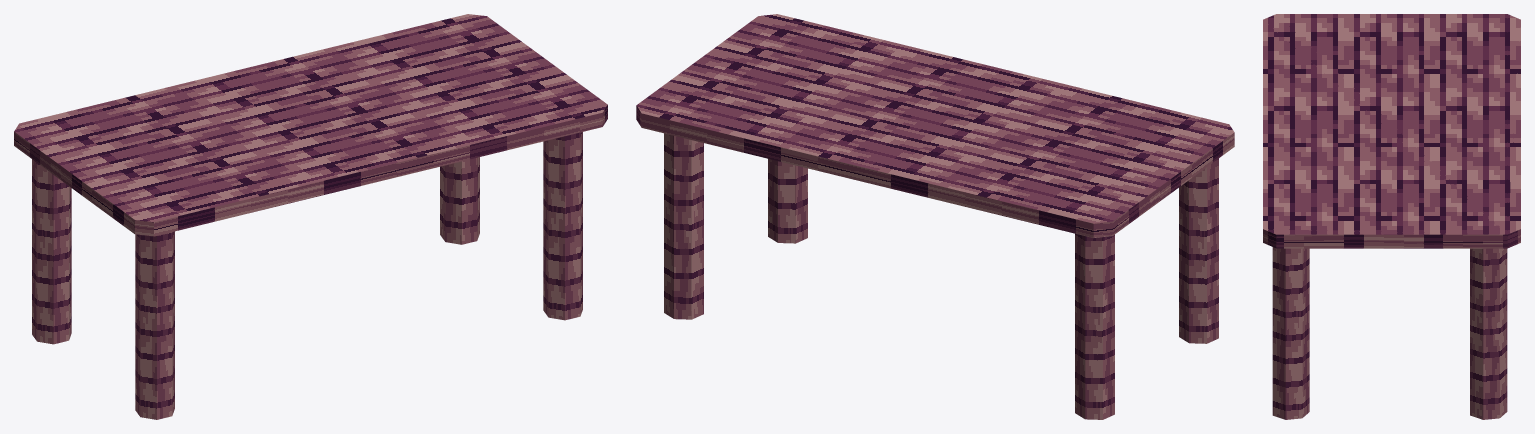
File: Table.fbx
3 views of the same model, side by side, from view 1: azimuth 30°, elevation 25°; view 2: azimuth 150°, elevation 25°; view 3: azimuth 270°, elevation 25° (orthographic). The views are drawn at different scales.
Visible parts, largest first — view 1: Cube, Cylinder, Cylinder.003, Cylinder.001, Cylinder.002; view 2: Cube, Cylinder.001, Cylinder.002, Cylinder, Cylinder.003; view 3: Cube, Cylinder.003, Cylinder.002.
Boxes of the visible parts, x1,y1,x2,y2 form: Cube: (14,14,607,236); Cylinder: (135,231,174,419); Cylinder.003: (543,132,582,320); Cylinder.001: (32,159,71,344); Cylinder.002: (440,157,479,244); Cube: (636,14,1234,237); Cylinder.001: (1075,233,1114,419); Cylinder.002: (664,133,703,319); Cylinder: (1179,158,1218,343); Cylinder.003: (768,159,807,243); Cube: (1263,14,1520,248); Cylinder.003: (1272,247,1309,419); Cylinder.002: (1470,248,1507,419).
Bounding box in the file's own units: 919 × 378 × 454.
